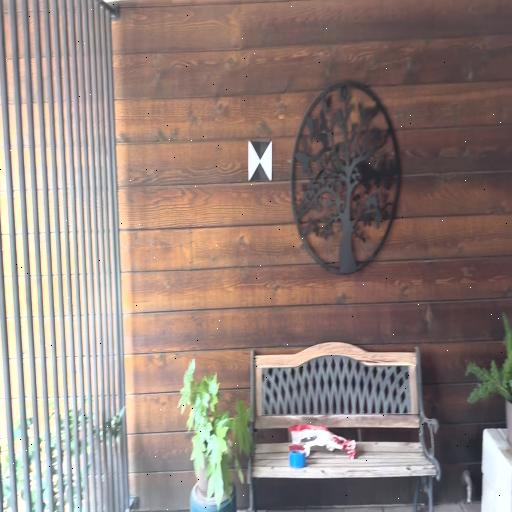target: (248, 141, 272, 181)
